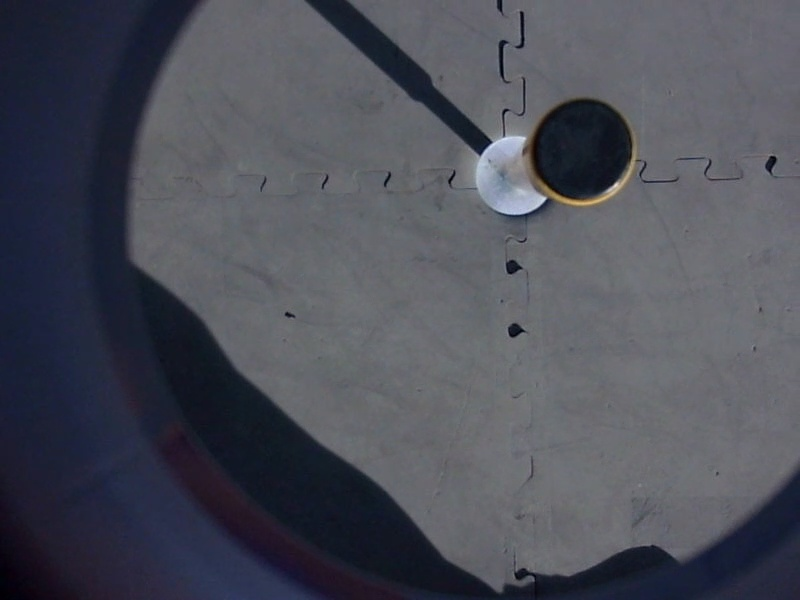tip: (523, 92, 642, 211)
